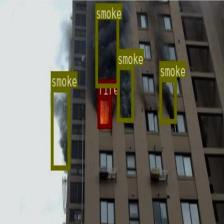fire: (97, 95, 111, 127)
smoke: (94, 2, 118, 87), (51, 87, 69, 168), (117, 64, 134, 122), (159, 78, 176, 122)
